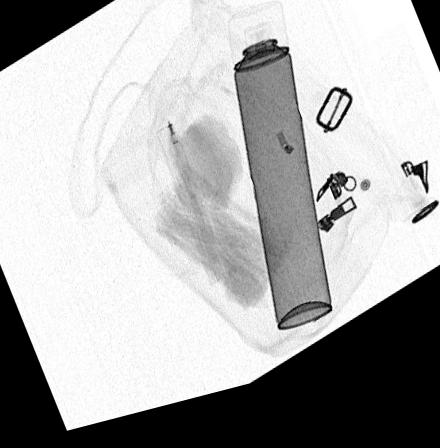Sprayer: (226, 14, 332, 343)
